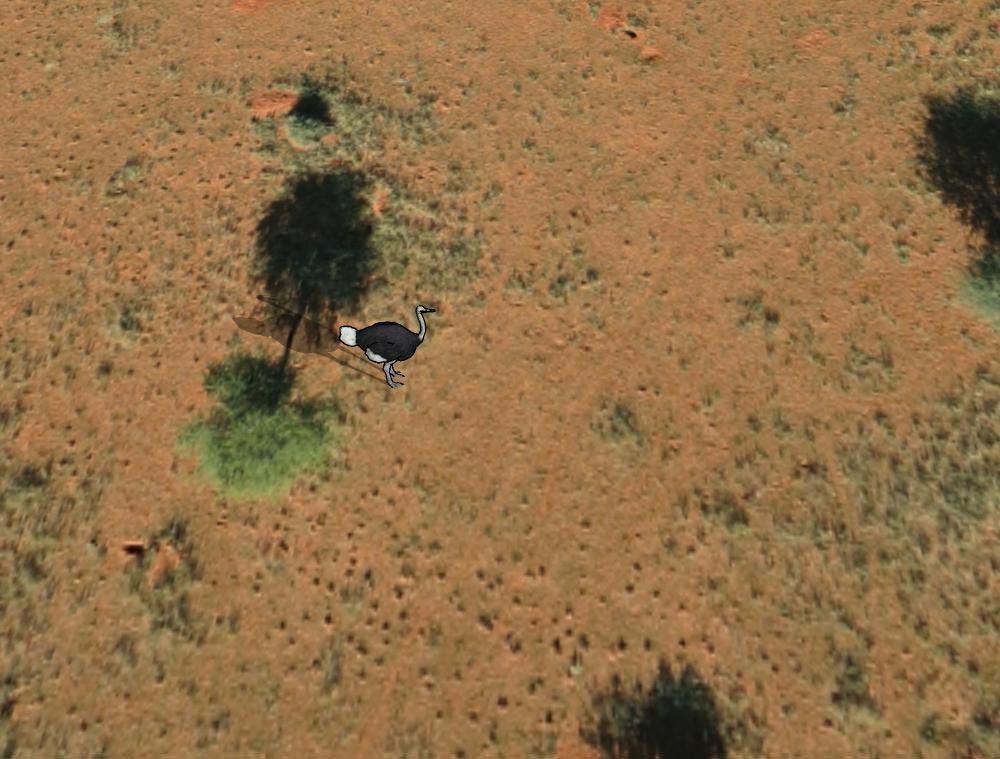ostrich: (339, 298, 439, 385)
